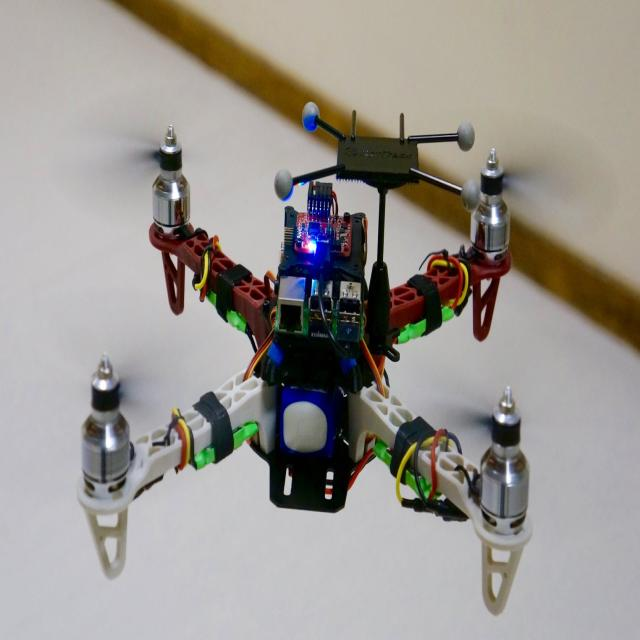drone: (60, 96, 560, 611)
